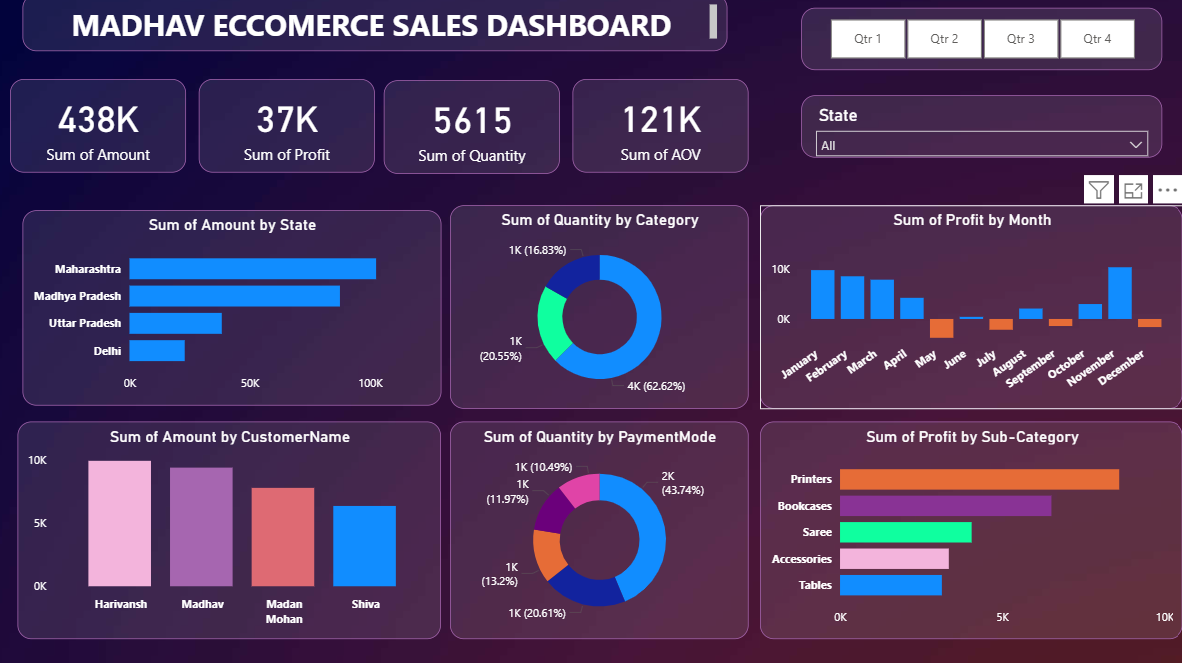

The dashboard page shown, as its layout file describes it:
{"tool":"powerbi","page":{"name":"Page 1","canvas":[1280,720],"ordinal":0},"visuals":[{"type":"textbox","box":[29.6,0,759.3,61.9],"z":0},{"type":"columnChart","fields":{"Y":["Details.Profit"],"Category":["Orders.Order Date.Variation.Date Hierarchy.Month"]},"box":[823.9,227.5,456.4,219.4],"z":1000},{"type":"barChart","fields":{"Category":["Details.Sub-Category"],"Y":["Details.Profit"]},"box":[823.9,460.4,456.4,234.2],"z":2000},{"type":"donutChart","fields":{"Category":["Details.Category"],"Y":["Details.Quantity"]},"box":[490,227.5,321.8,219.4],"z":3000},{"type":"donutChart","fields":{"Y":["Details.Quantity"],"Category":["Details.PaymentMode"]},"box":[490,460.4,321.8,234.2],"z":4000},{"type":"card","fields":{"Values":["Details.Amount"]},"box":[16.2,91.5,189.8,101],"z":5000},{"type":"card","fields":{"Values":["Details.Quantity"]},"box":[418.7,92.9,189.8,101],"z":6000},{"type":"card","fields":{"Values":["Details.Profit"]},"box":[219.4,91.5,189.8,101],"z":7000},{"type":"card","fields":{"Values":["Details.AOV"]},"box":[622,91.5,189.8,101],"z":8000},{"type":"barChart","fields":{"Category":["Orders.State"],"Y":["Details.Amount"]},"box":[29.6,232.9,451,210],"z":9000},{"type":"columnChart","fields":{"Y":["Details.Amount"],"Category":["Orders.CustomerName"]},"box":[24.2,460.4,456.4,234.2],"z":10000},{"type":"slicer","fields":{"Values":["Orders.Order Date.Variation.Date Hierarchy.Quarter"]},"box":[868.3,14.8,389.1,67.3],"z":11000},{"type":"slicer","fields":{"Values":["Orders.State"]},"box":[868.3,109,389.1,67.3],"z":11001}]}

Visuals, with their boxes in screenshot pixels (x1, y1, x2, y2), scaled from the page's 1280x720 canvas onto the 1182x663 screenshot:
textbox: (x1=27, y1=0, x2=728, y2=57)
columnChart - Details.Profit x Orders.Order Date.Variation.Date Hierarchy.Month: (x1=761, y1=209, x2=1181, y2=412)
barChart - Details.Sub-Category x Details.Profit: (x1=761, y1=424, x2=1181, y2=640)
donutChart - Details.Category x Details.Quantity: (x1=452, y1=209, x2=750, y2=412)
donutChart - Details.Quantity x Details.PaymentMode: (x1=452, y1=424, x2=750, y2=640)
card - Details.Amount: (x1=15, y1=84, x2=190, y2=177)
card - Details.Quantity: (x1=387, y1=86, x2=562, y2=179)
card - Details.Profit: (x1=203, y1=84, x2=378, y2=177)
card - Details.AOV: (x1=574, y1=84, x2=750, y2=177)
barChart - Orders.State x Details.Amount: (x1=27, y1=214, x2=444, y2=408)
columnChart - Details.Amount x Orders.CustomerName: (x1=22, y1=424, x2=444, y2=640)
slicer - Orders.Order Date.Variation.Date Hierarchy.Quarter: (x1=802, y1=14, x2=1161, y2=76)
slicer - Orders.State: (x1=802, y1=100, x2=1161, y2=162)
